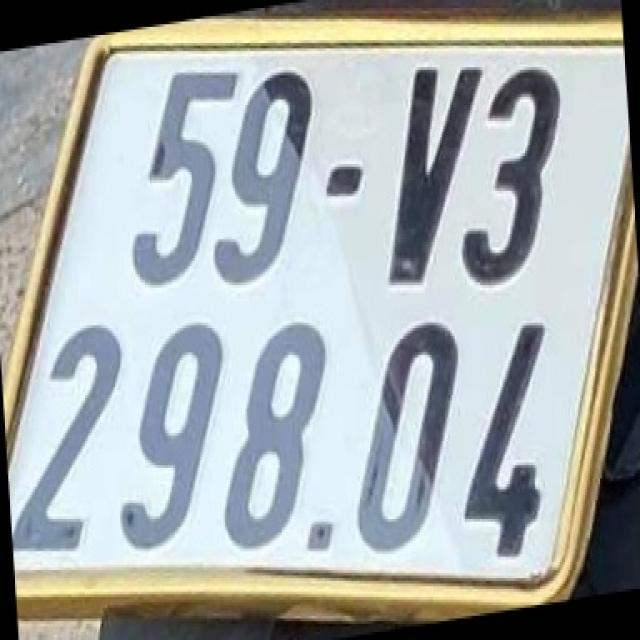0: (348, 314, 460, 560)
2: (23, 318, 120, 552)
3: (462, 59, 564, 288)
4: (462, 314, 552, 562)
5: (126, 57, 234, 290)
8: (222, 309, 326, 554)
9: (118, 314, 222, 554), (214, 62, 314, 290)
V: (386, 51, 474, 299)
